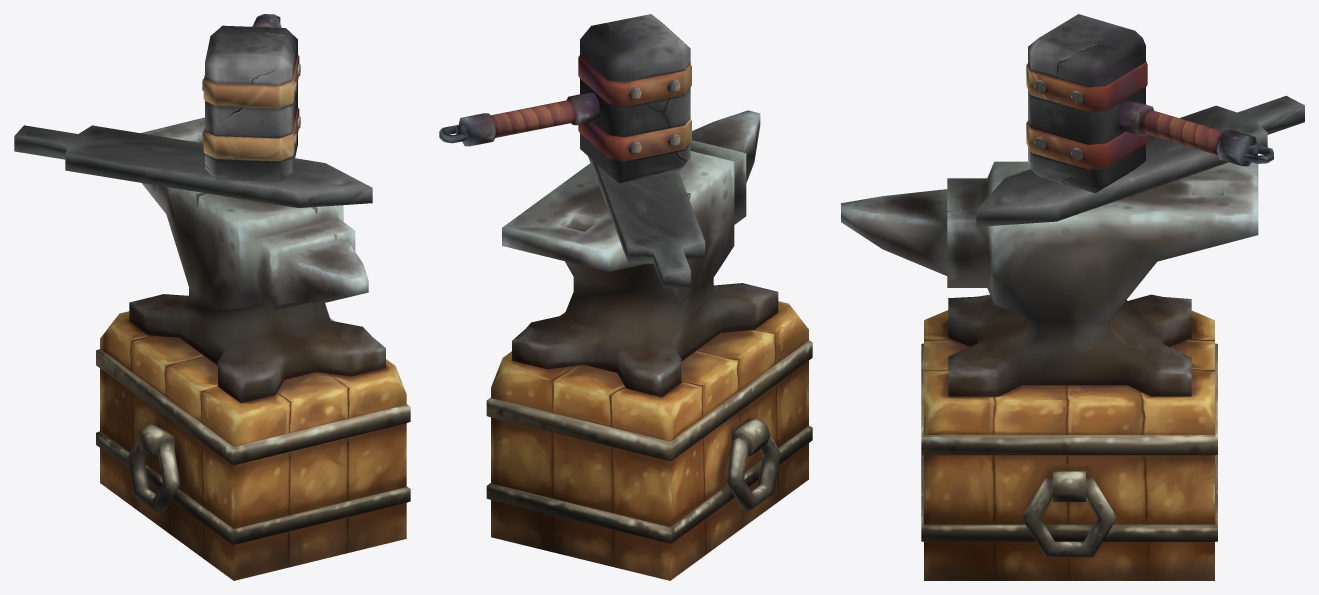
The model's file is anvil.glb.
The picture shows the model from 3 angles, left to right: view 1: azimuth 30°, elevation 25°; view 2: azimuth 150°, elevation 25°; view 3: azimuth 270°, elevation 25°; orthographic projection. The views are drawn at different scales.
Visible parts, largest first — view 1: anvil, hammer, blade; view 2: anvil, hammer, blade; view 3: anvil, hammer, blade.
Boxes of the visible parts, x1,y1,x2,y2 form: anvil: [96, 117, 410, 580]; hammer: [202, 14, 300, 182]; blade: [14, 125, 372, 207]; anvil: [486, 110, 812, 580]; hammer: [439, 14, 691, 183]; blade: [588, 156, 705, 288]; anvil: [841, 161, 1258, 580]; hammer: [1026, 14, 1273, 193]; blade: [976, 95, 1304, 226].
Size of the model in its own units: 1.55 by 2.7 by 2.26.
Materials: 3 (3 with a texture image).
